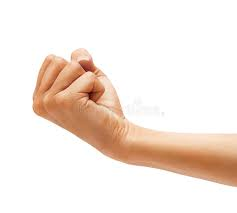fist: (34, 46, 138, 148)
